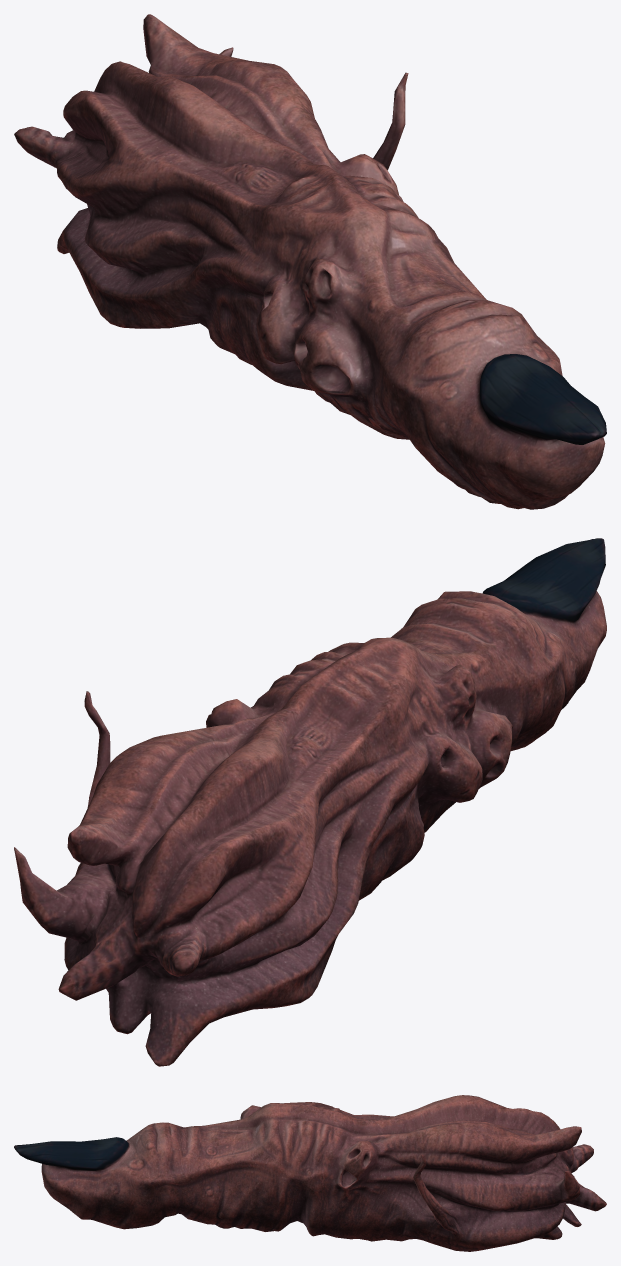
Rendered from lava-finger.glb.
3 renders of one model, top to bottom at view 1: azimuth 30°, elevation 25°; view 2: azimuth 150°, elevation 25°; view 3: azimuth 270°, elevation 25°, orthographic. The views are drawn at different scales.
Parts seen in each view (by area): view 1: MSH_Jujutsu_sukuna_Finger; view 2: MSH_Jujutsu_sukuna_Finger; view 3: MSH_Jujutsu_sukuna_Finger.
Boxes of the visible parts, box(x1,y1,x2,y2) form: MSH_Jujutsu_sukuna_Finger: box(14, 14, 606, 509); MSH_Jujutsu_sukuna_Finger: box(14, 538, 606, 1066); MSH_Jujutsu_sukuna_Finger: box(14, 1095, 606, 1251).
Size of the model in its own units: 2.41 by 1.97 by 7.82.
1 material, 1 textured.
